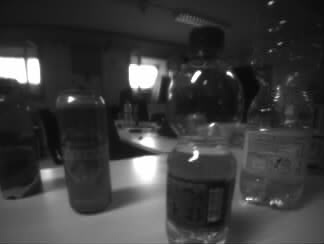Bottle: (239, 1, 316, 211), (166, 26, 237, 244)
Tin can: (54, 89, 114, 214)
